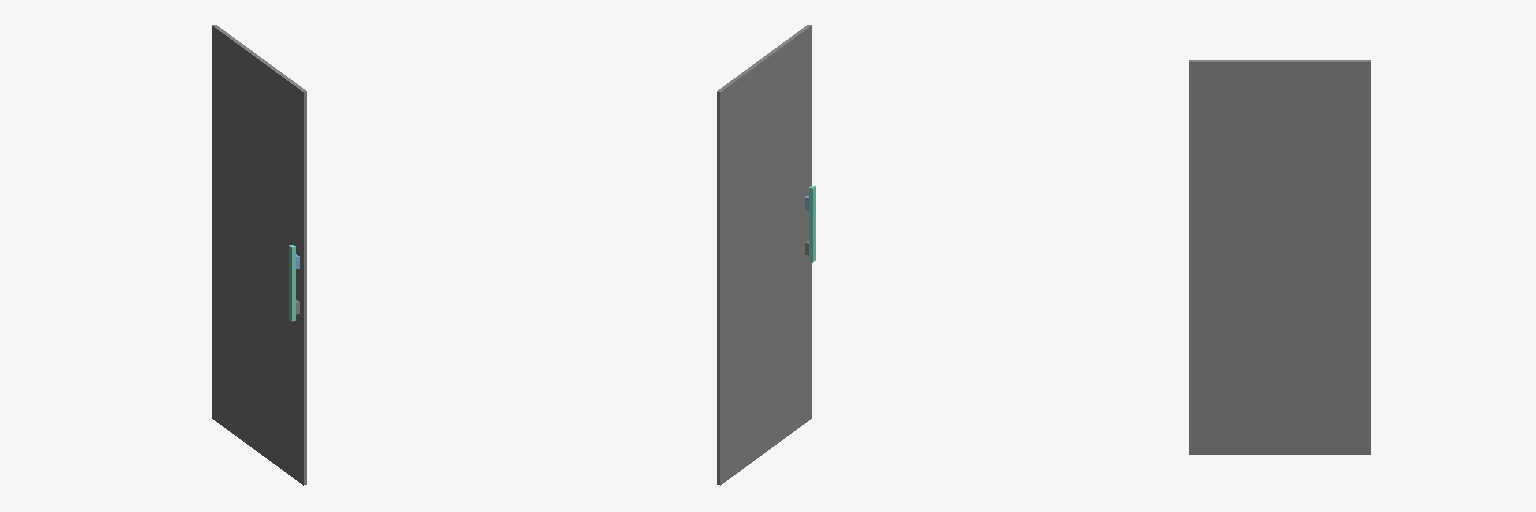
Rendered from door.obj.
The picture shows the model from 3 angles: view 1: azimuth 30°, elevation 25°; view 2: azimuth 150°, elevation 25°; view 3: azimuth 270°, elevation 25°; orthographic projection.
Visible parts, largest first — view 1: Rectangle004, Rectangle027; view 2: Rectangle004, Rectangle027; view 3: Rectangle004.
Part boxes in pixels (bbox=[...]): Rectangle004: bbox=[212, 25, 306, 485]; Rectangle027: bbox=[289, 245, 295, 321]; Rectangle004: bbox=[717, 25, 811, 485]; Rectangle027: bbox=[809, 186, 815, 262]; Rectangle004: bbox=[1189, 60, 1370, 454].
Size of the model in its own units: 3.6 by 118 by 49.63.